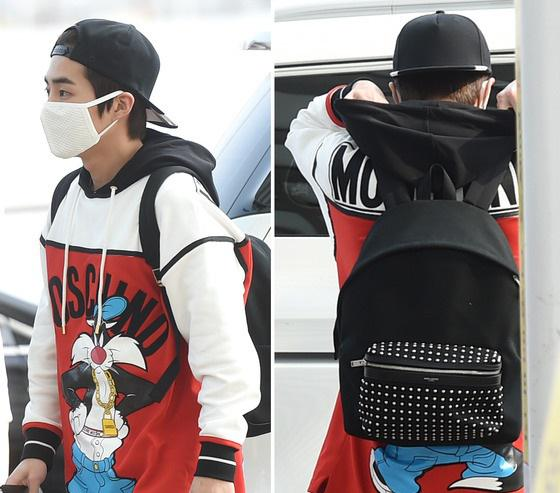OK: (38, 77, 121, 160)
